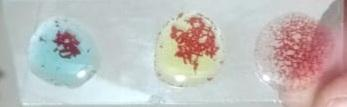A: (250, 20, 320, 89)
B: (125, 19, 189, 95)
D: (19, 15, 91, 93)
